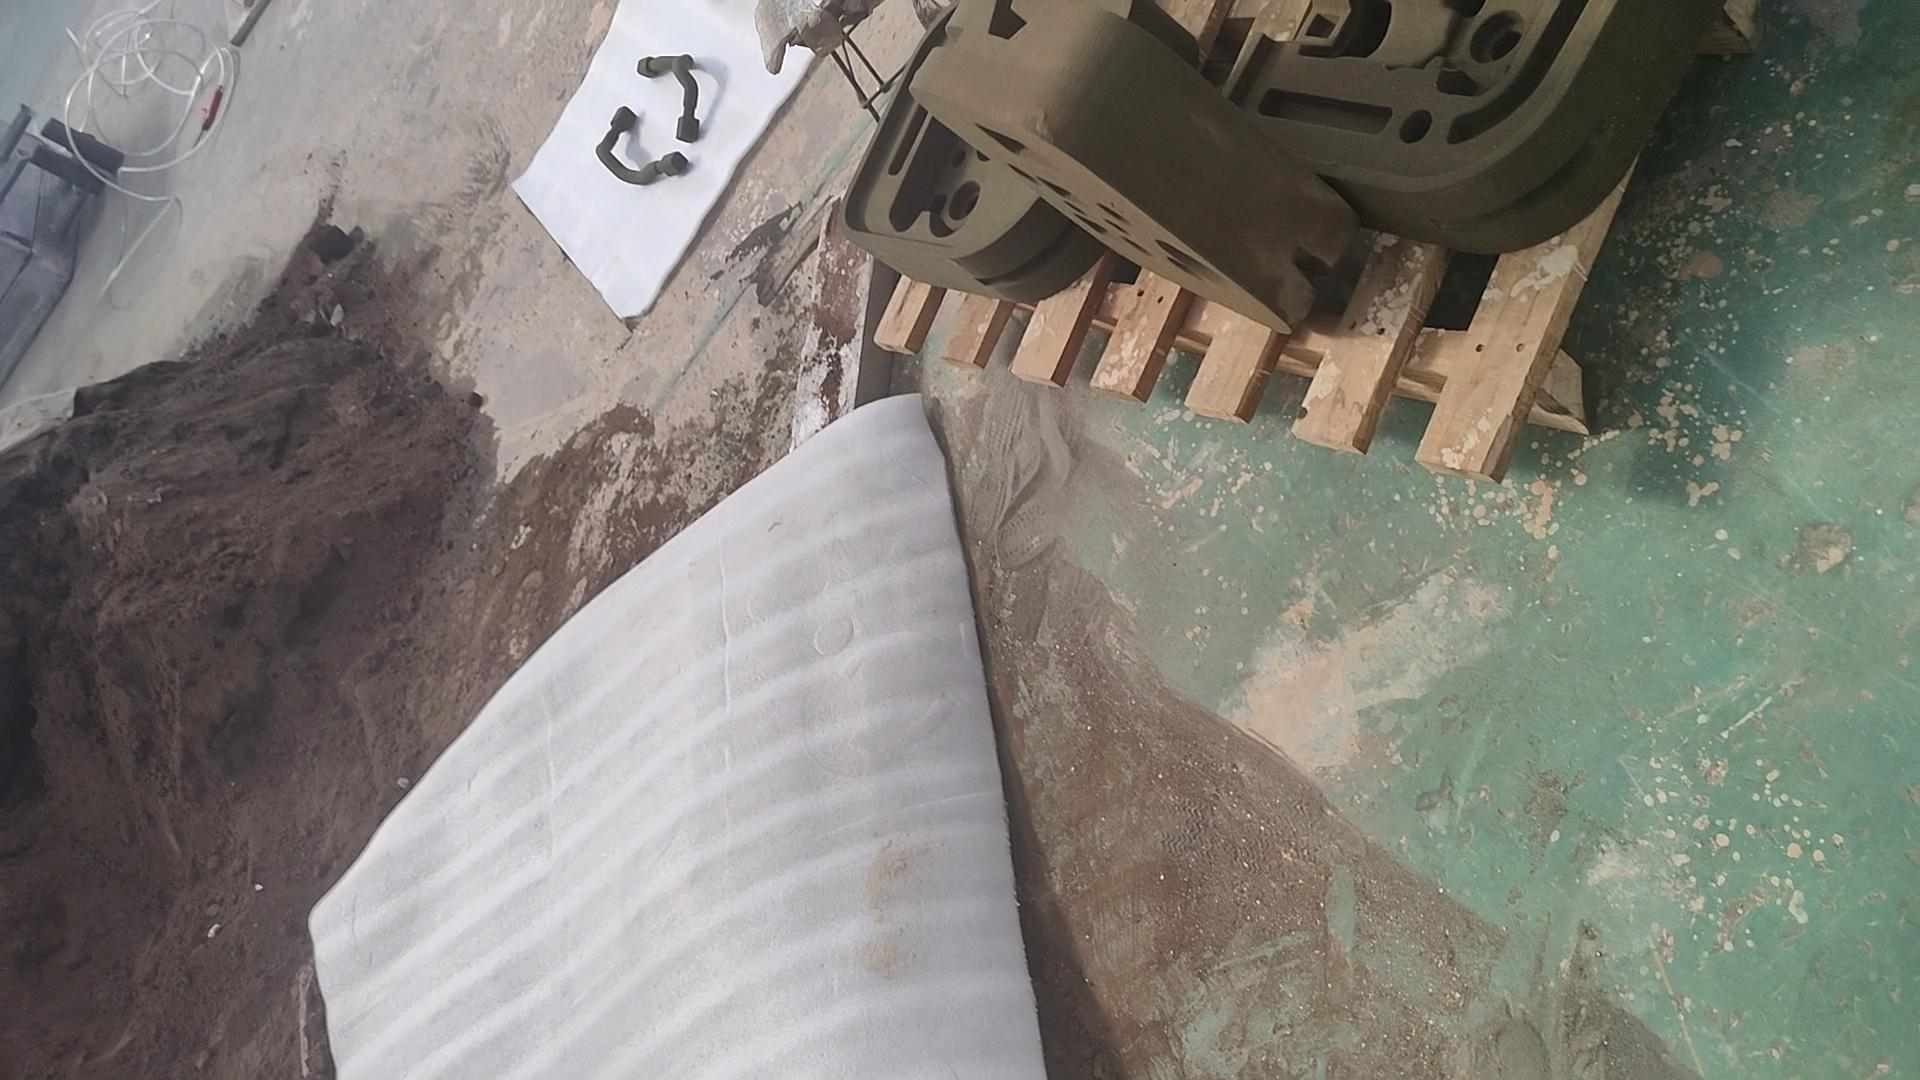pouring hole: (1154, 240, 1232, 290)
